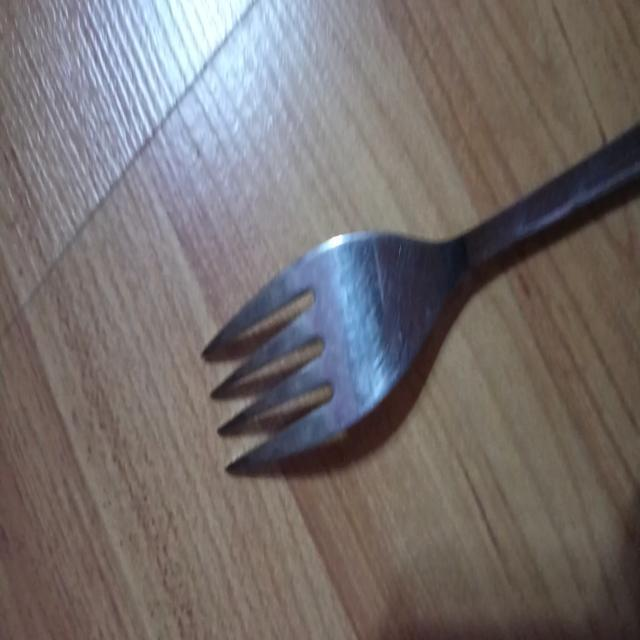spoon: (202, 120, 640, 473)
